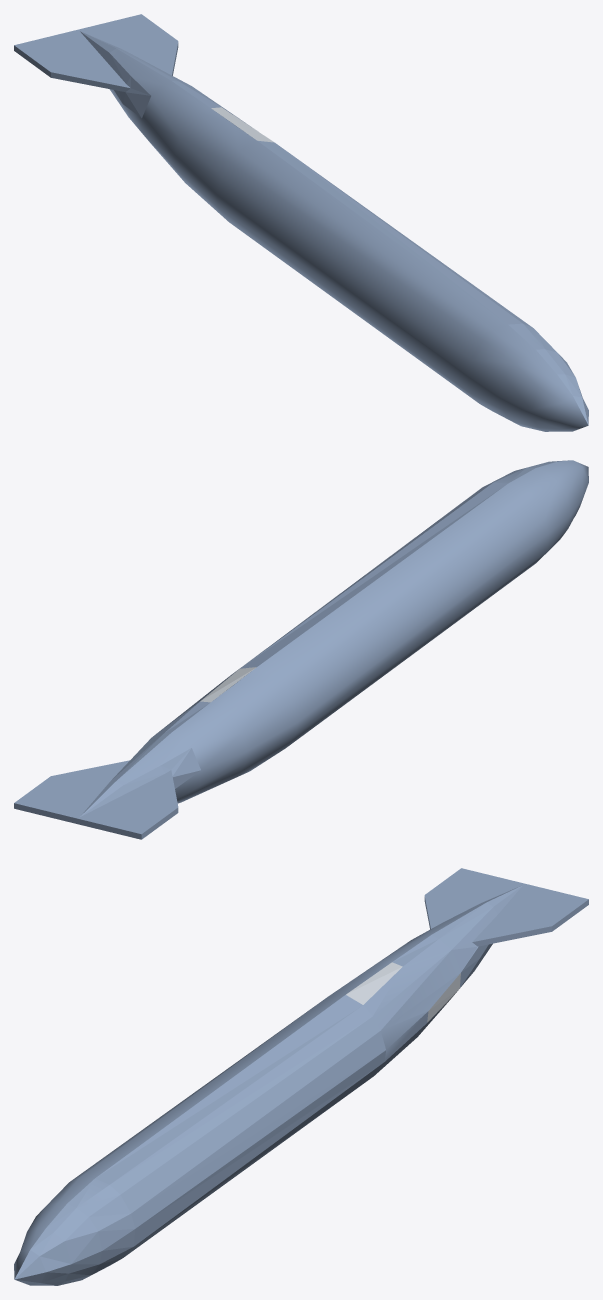
The model's file is proyectil.fbx.
The picture shows the model from 3 angles, top to bottom: view 1: azimuth 30°, elevation 25°; view 2: azimuth 150°, elevation 25°; view 3: azimuth 330°, elevation 25°; orthographic projection.
Parts seen in each view (by area): view 1: proyectil; view 2: proyectil; view 3: proyectil.
Boxes of the visible parts, x1,y1,x2,y2 form: proyectil: [14, 14, 588, 431]; proyectil: [14, 460, 588, 839]; proyectil: [14, 868, 588, 1285].
Bounding box in the file's own units: 34.06 × 22.4 × 236.
Materials: 2 (1 with a texture image).
